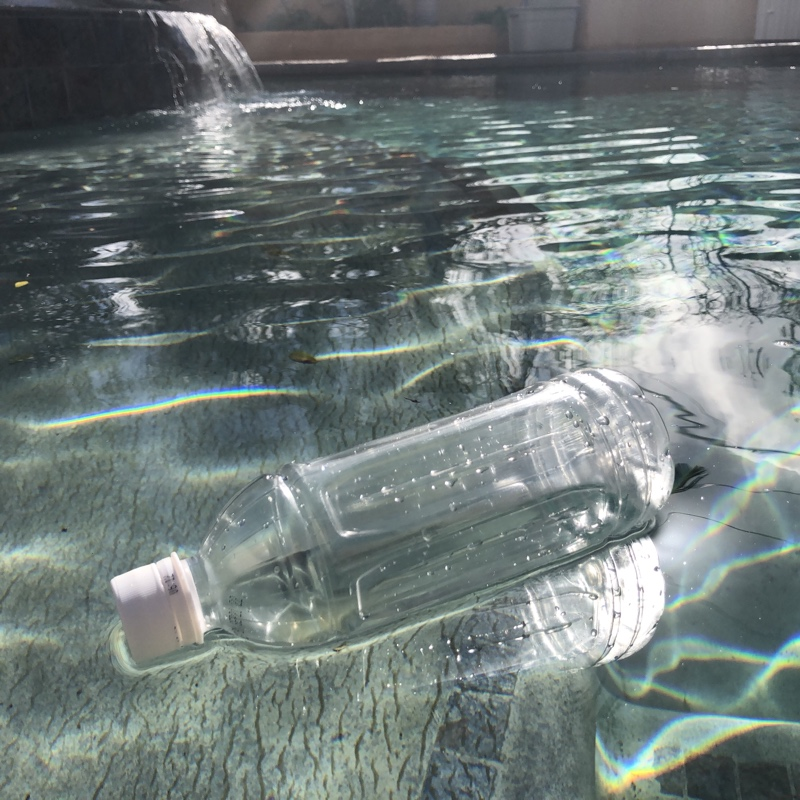Plastic Bottle: (105, 360, 677, 690)
